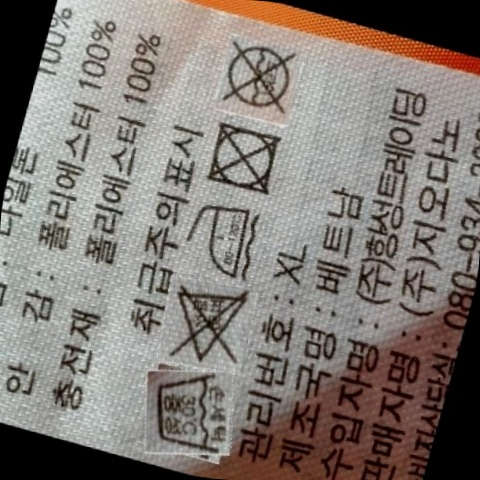DN_dry_clean: (216, 37, 303, 117)
DN_tumble_dry: (203, 118, 287, 197)
hand_wash: (143, 364, 242, 463)
iron_low: (184, 194, 266, 286)
non_chlorine_bleach: (169, 279, 256, 371)
